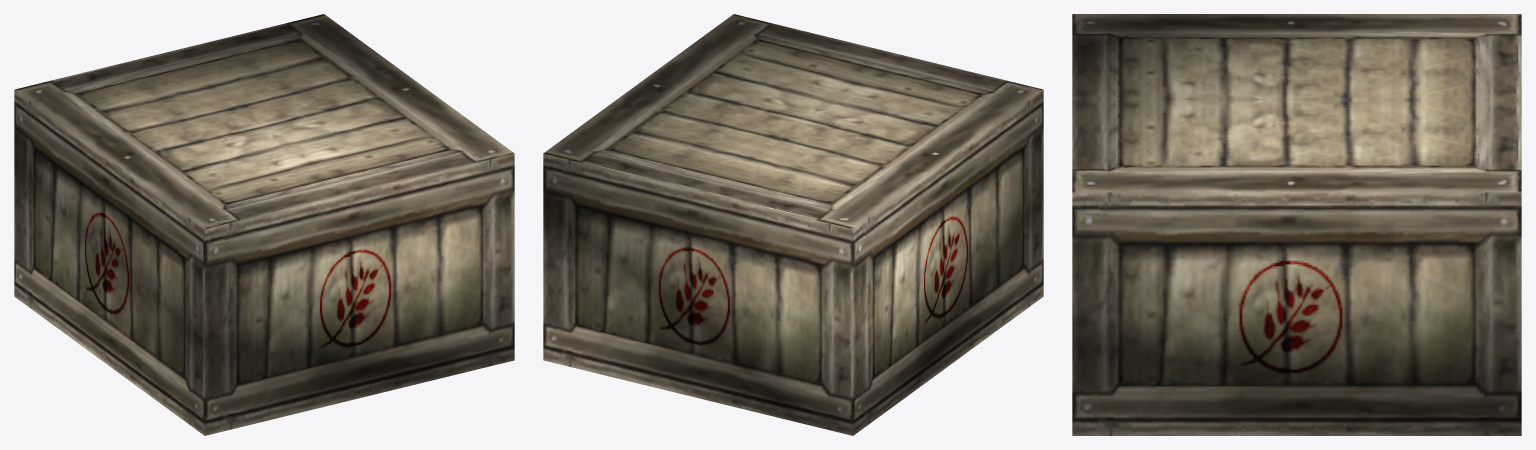
Rendered from graincrate01.obj.
3 views of the same model, side by side, from view 1: azimuth 30°, elevation 25°; view 2: azimuth 150°, elevation 25°; view 3: azimuth 270°, elevation 25° (orthographic). The views are drawn at different scales.
Visible parts, largest first — view 1: graincrate01; view 2: graincrate01; view 3: graincrate01.
Boxes of the visible parts, bbox=[...] form: graincrate01: bbox=[14, 14, 514, 435]; graincrate01: bbox=[543, 14, 1043, 435]; graincrate01: bbox=[1072, 14, 1521, 435].
Bounding box in the file's own units: 1.24 × 0.7924 × 1.32.
1 material, 1 textured.
